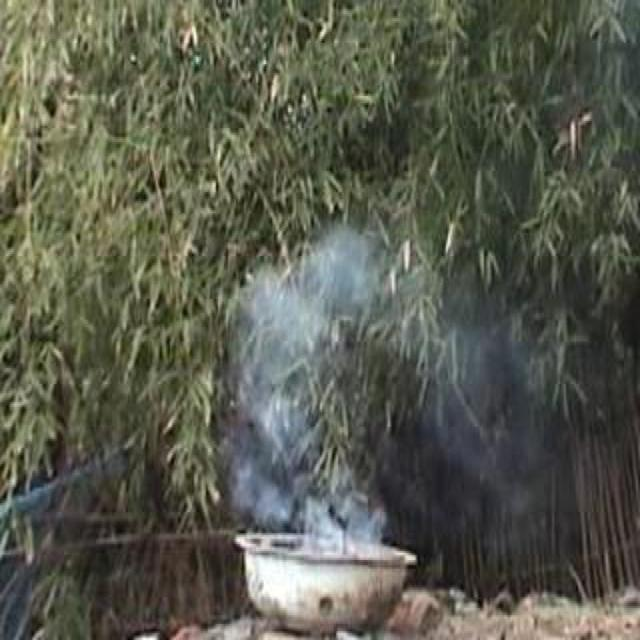Smoke: (222, 222, 390, 560)
